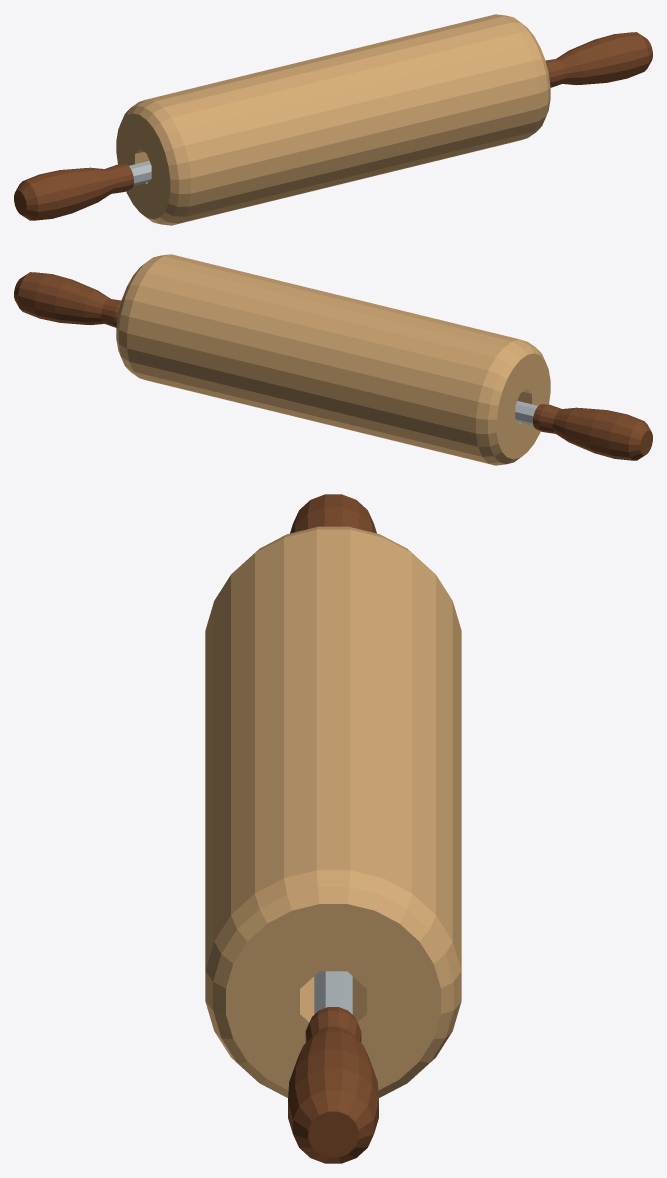
3 views of the same model, one above another, from view 1: azimuth 30°, elevation 25°; view 2: azimuth 150°, elevation 25°; view 3: azimuth 270°, elevation 25° (orthographic). The views are drawn at different scales.
Parts seen in each view (by area): view 1: Barrel_ThickRoundedTrueBore, Grip_LeftNeckedRoundedHandle, Grip_RightNeckedRoundedHandle, Axle_ContinuousLowerSeatedShaft; view 2: Barrel_ThickRoundedTrueBore, Grip_LeftNeckedRoundedHandle, Grip_RightNeckedRoundedHandle, Axle_ContinuousLowerSeatedShaft; view 3: Barrel_ThickRoundedTrueBore, Grip_RightNeckedRoundedHandle, Grip_LeftNeckedRoundedHandle, Axle_ContinuousLowerSeatedShaft.
Boxes of the visible parts, x1=… form: Barrel_ThickRoundedTrueBore: x1=116, y1=14, x2=550, y2=225; Grip_LeftNeckedRoundedHandle: x1=14, y1=164, x2=133, y2=220; Grip_RightNeckedRoundedHandle: x1=545, y1=32, x2=652, y2=87; Axle_ContinuousLowerSeatedShaft: x1=129, y1=161, x2=151, y2=185; Barrel_ThickRoundedTrueBore: x1=116, y1=254, x2=550, y2=465; Grip_LeftNeckedRoundedHandle: x1=533, y1=404, x2=652, y2=460; Grip_RightNeckedRoundedHandle: x1=14, y1=272, x2=121, y2=327; Axle_ContinuousLowerSeatedShaft: x1=515, y1=401, x2=537, y2=425; Barrel_ThickRoundedTrueBore: x1=205, y1=526, x2=461, y2=1097; Grip_RightNeckedRoundedHandle: x1=288, y1=1007, x2=378, y2=1163; Grip_LeftNeckedRoundedHandle: x1=290, y1=494, x2=376, y2=533; Axle_ContinuousLowerSeatedShaft: x1=314, y1=971, x2=352, y2=1014.
Bounding box in the file's own units: 0.56 × 0.0991 × 0.0991.
